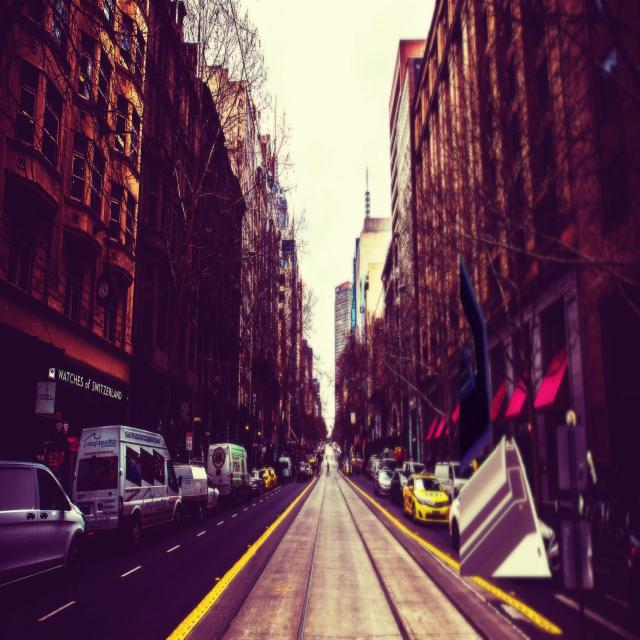airplane: (455, 260, 549, 579)
